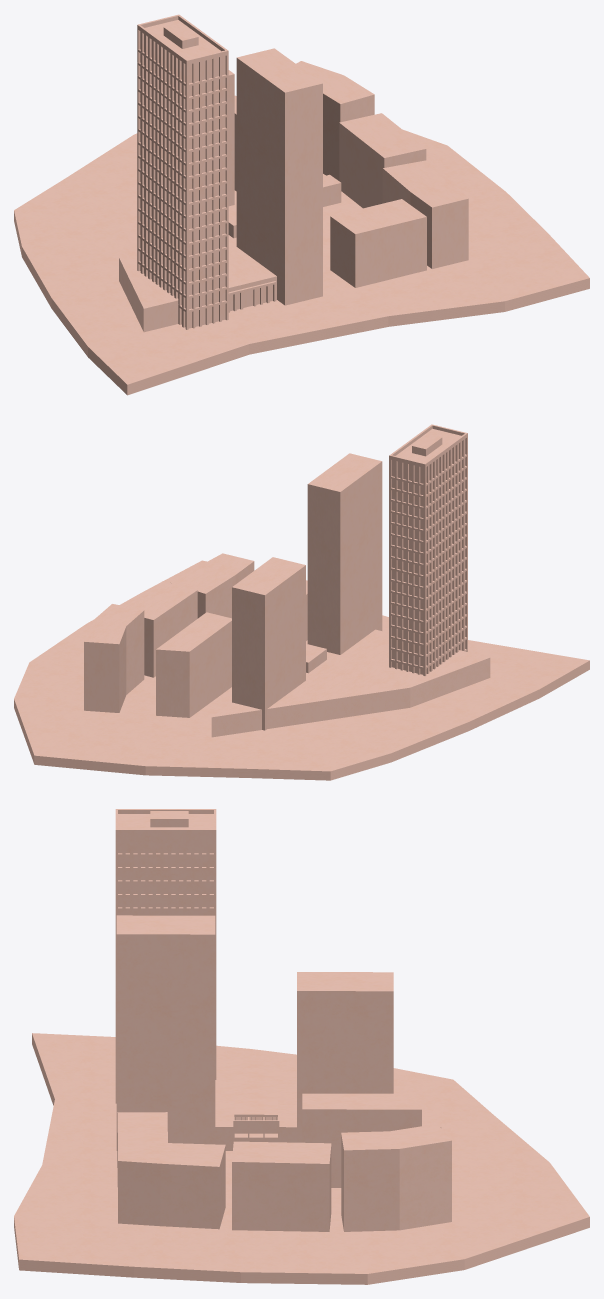
3 renders of one model, top to bottom at view 1: azimuth 30°, elevation 25°; view 2: azimuth 150°, elevation 25°; view 3: azimuth 270°, elevation 25°, orthographic. The views are drawn at different scales.
Visible parts, largest first — view 1: Cube; view 2: Cube; view 3: Cube.
Part boxes in pixels (left/top/right/bottom): Cube: left=14, top=14, right=589, bottom=395; Cube: left=14, top=424, right=589, bottom=780; Cube: left=14, top=809, right=589, bottom=1284.
Size of the model in its own units: 238 by 133 by 240.
Materials: 1 (1 with a texture image).
